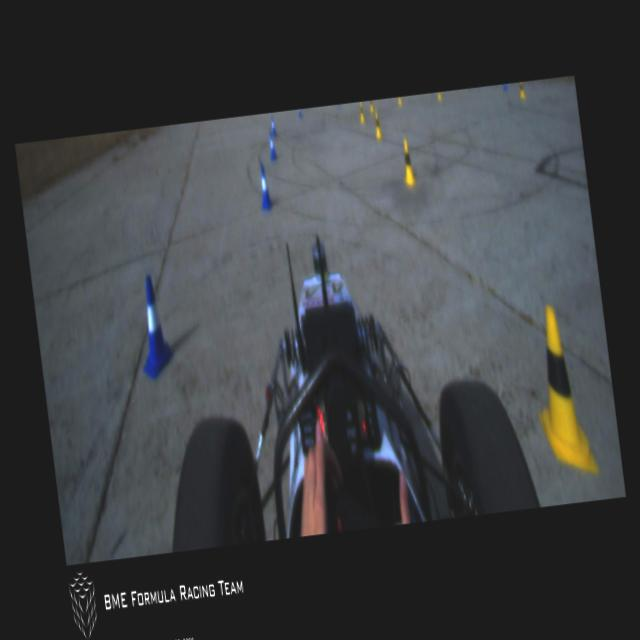blue_cone: (132, 272, 176, 380), (256, 164, 272, 210), (267, 131, 277, 160), (270, 117, 276, 137), (296, 109, 302, 118)
yellow_cone: (525, 300, 599, 482), (398, 137, 416, 187), (372, 110, 382, 142), (358, 101, 366, 123), (518, 81, 526, 100), (368, 100, 374, 111), (397, 96, 402, 105)
